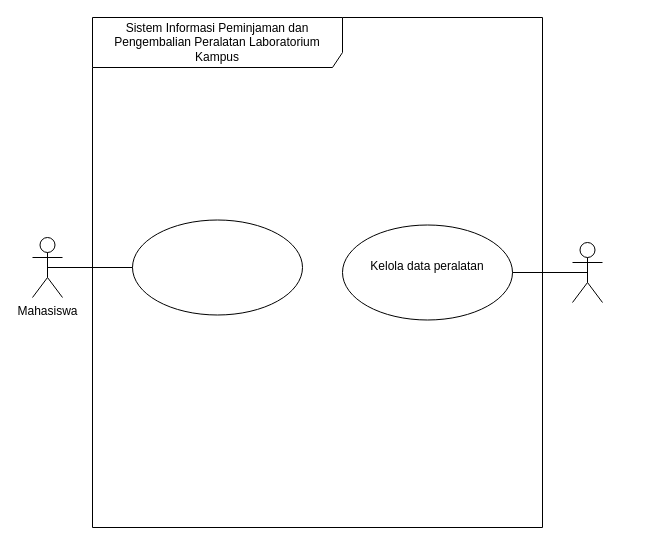
Some shapes in this 650 by 545 pixel diagram are drawn without their labels. Here are the shapes that lost their labels. From the top down, the centre of each, then its label:
At point 217,267: "Lihat ketersediaan peralatan".
At point 587,272: "Petugas Laporan".
